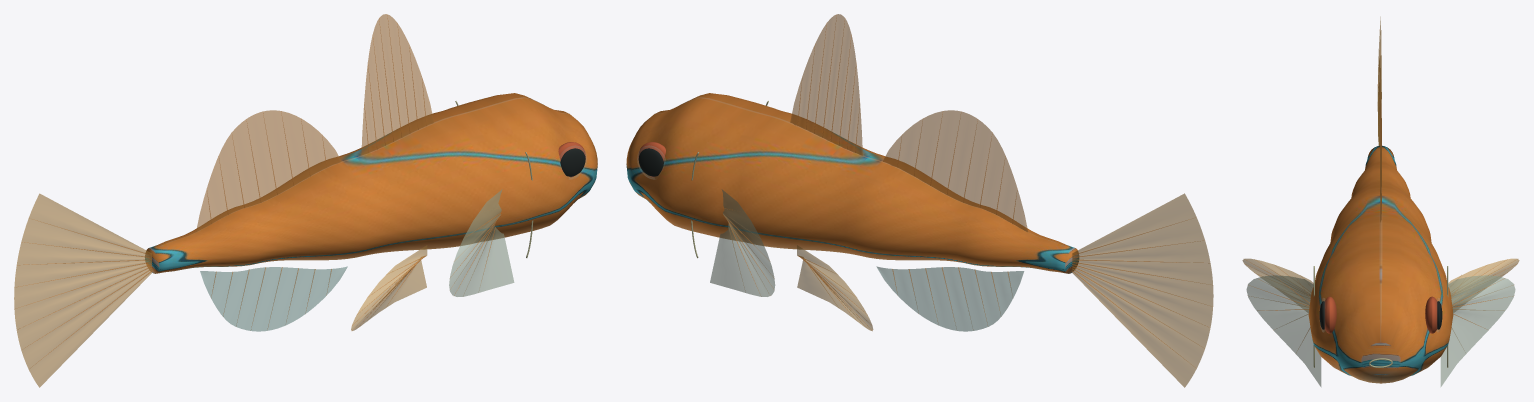
File: mandarin-mobile.glb
3 views of the same model, side by side, from view 1: azimuth 30°, elevation 25°; view 2: azimuth 150°, elevation 25°; view 3: azimuth 270°, elevation 25° (orthographic). The views are drawn at different scales.
Parts seen in each view (by area): view 1: skin, dorsal, tail, anal, pectoral-left, dorsal-ray, pelvic-left, eye-pupil--1; view 2: skin, tail, dorsal, anal, pectoral-left, dorsal-ray, pelvic-left, eye-pupil--1; view 3: skin, pectoral-left, pelvic-left, eye-iris--1, dorsal-ray, tail, operculum, eye-pupil--1, dorsal.
Boxes of the visible parts, x1,y1,x2,y2 form: skin: (145, 93, 597, 273); dorsal: (196, 14, 433, 231); tail: (14, 193, 151, 387); anal: (200, 266, 347, 331); pectoral-left: (449, 189, 514, 296); dorsal-ray: (16, 15, 500, 366); pelvic-left: (351, 245, 427, 330); eye-pupil--1: (560, 148, 585, 176); skin: (626, 93, 1078, 273); tail: (1072, 193, 1213, 387); dorsal: (790, 14, 1027, 231); anal: (876, 266, 1023, 331); pectoral-left: (710, 189, 775, 296); dorsal-ray: (723, 15, 1209, 354); pelvic-left: (797, 245, 873, 330); eye-pupil--1: (638, 148, 663, 176); skin: (1308, 145, 1453, 383); pectoral-left: (1246, 275, 1515, 386); pelvic-left: (1242, 258, 1519, 312); eye-iris--1: (1324, 296, 1437, 333); dorsal-ray: (1245, 30, 1517, 348); tail: (1377, 17, 1381, 145); operculum: (1313, 266, 1448, 367); eye-pupil--1: (1319, 301, 1442, 329); dorsal: (1380, 92, 1381, 221).
Bounding box in the file's own units: 0.5972 × 0.2857 × 0.2595.
11 materials, 1 textured.
